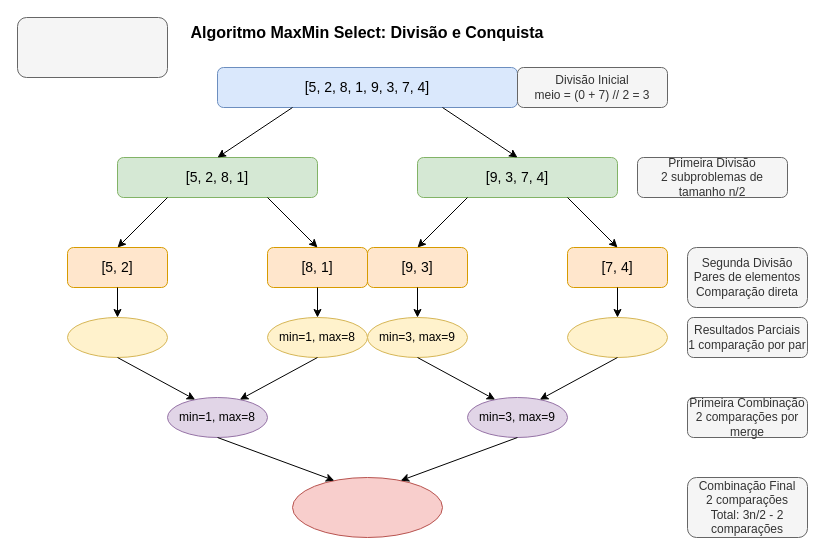
Image size: 825x555. Some labels were removed from this diagram. The shapes that lost their labels are listed below. From the top down, each one's centre as x and y in pixels, then its label:
[92,47]: Complexidade: - Tempo: O(n) - Comparações: 3n/2 - 2
[117,337]: min=2, max=5
[617,337]: min=4, max=7
[367,507]: Resultado Final: min=1, max=9
